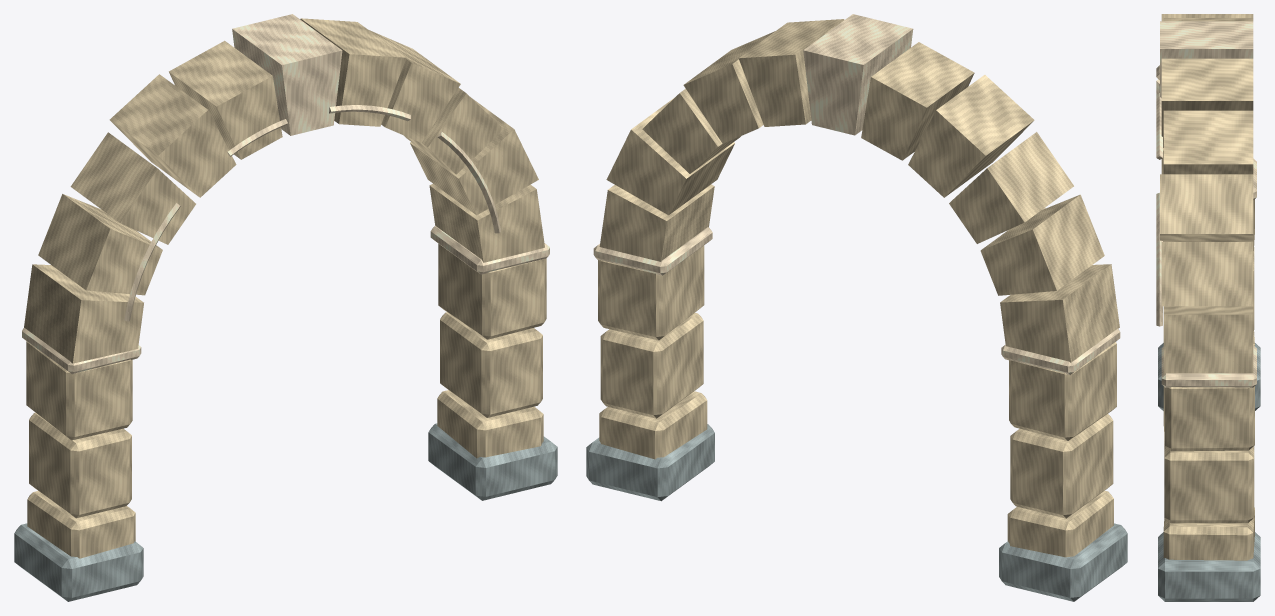
File: ruin_arch.glb
The picture shows the model from 3 angles, left to right: view 1: azimuth 30°, elevation 25°; view 2: azimuth 150°, elevation 25°; view 3: azimuth 270°, elevation 25°; orthographic projection. The views are drawn at different scales.
Parts seen in each view (by area): view 1: Arch_stone.007, Arch_stone.005, Pier_stone.004, Pier_stone.001, Arch_stone.010, Arch_stone.009, Arch_stone.006, Pier_stone.002, Pier_stone.005, Arch_stone.008, Pier_foot, Arch_stone.004 (+11 smaller); view 2: Arch_stone.007, Arch_stone.005, Pier_stone.004, Pier_stone.001, Arch_stone.009, Arch_stone.010, Arch_stone.006, Pier_stone.002, Arch_stone.008, Pier_stone.005, Arch_stone.004, Pier_foot (+9 smaller); view 3: Pier_stone.004, Arch_stone.002, Arch_stone, Arch_stone.001, Arch_stone.003, Pier_stone.005, Arch_stone.004, Pier_foot.001, Arch_stone.005, Pier_stone.003, Spring_molding.001, Carved_rim (+4 smaller).
Boxes of the visible parts, x1,y1,x2,y2 form: Arch_stone.007: (109,74,236,197); Arch_stone.005: (232,14,342,135); Pier_stone.004: (440,312,542,417); Pier_stone.001: (29,412,131,518); Arch_stone.010: (24,264,143,363); Arch_stone.009: (38,194,162,295); Arch_stone.006: (169,40,282,159); Pier_stone.002: (26,341,132,440); Pier_stone.005: (438,243,546,339); Arch_stone.008: (70,132,195,244); Pier_foot: (14,523,143,601); Arch_stone.004: (300,18,406,126); Arch_stone.007: (908,75,1034,197); Arch_stone.005: (803,14,913,135); Pier_stone.004: (600,313,703,418); Pier_stone.001: (1010,414,1113,518); Arch_stone.009: (980,194,1104,295); Arch_stone.010: (1000,264,1119,362); Arch_stone.006: (861,42,974,160); Pier_stone.002: (1009,342,1116,440); Arch_stone.008: (949,132,1073,243); Pier_stone.005: (598,245,704,340); Arch_stone.004: (738,19,844,126); Pier_foot: (999,523,1127,601); Pier_stone.004: (1164,437,1254,523); Arch_stone.002: (1160,174,1253,241); Arch_stone: (1163,306,1253,374); Arch_stone.001: (1161,242,1253,306); Arch_stone.003: (1163,110,1253,174); Pier_stone.005: (1163,386,1254,451); Arch_stone.004: (1161,58,1253,147); Pier_foot.001: (1158,532,1260,601); Arch_stone.005: (1160,21,1253,97); Pier_stone.003: (1163,507,1254,560); Spring_molding.001: (1161,345,1256,387); Carved_rim: (1156,192,1162,326).
Size of the model in its own units: 2.86 by 2.69 by 0.556.
3 materials, 3 textured.
